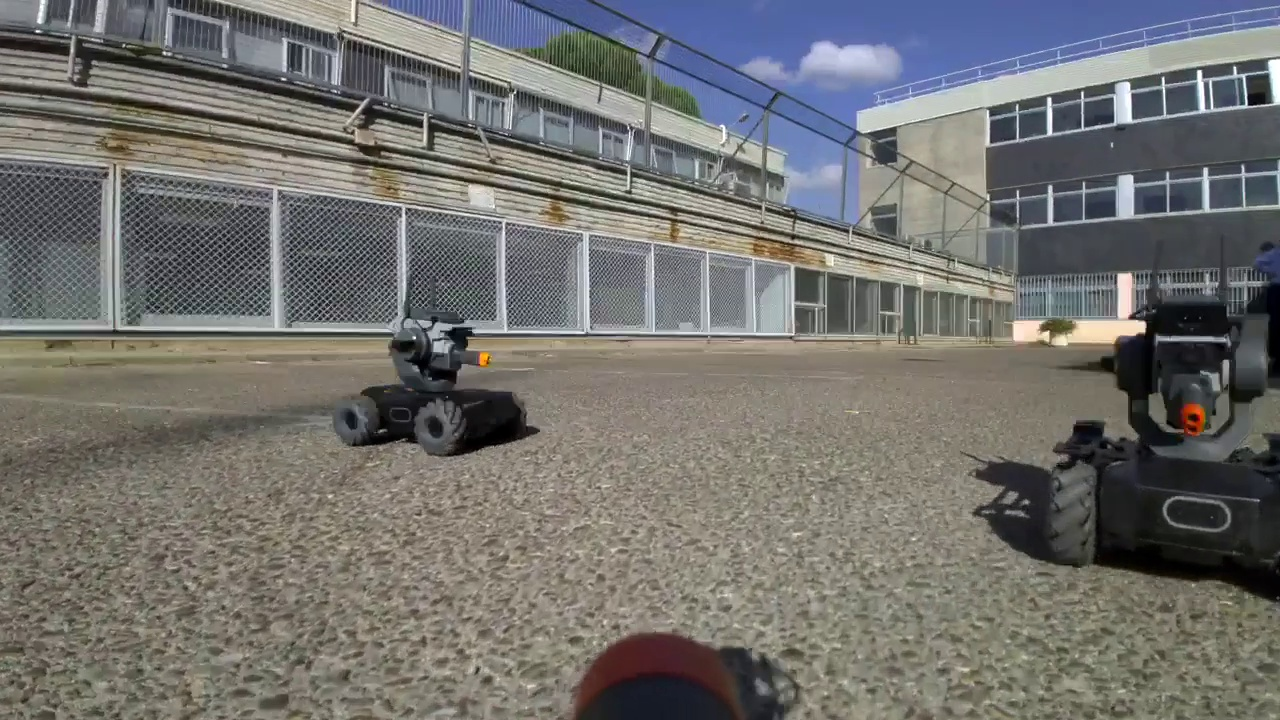robot: (1049, 238, 1280, 589), (331, 272, 529, 457)
